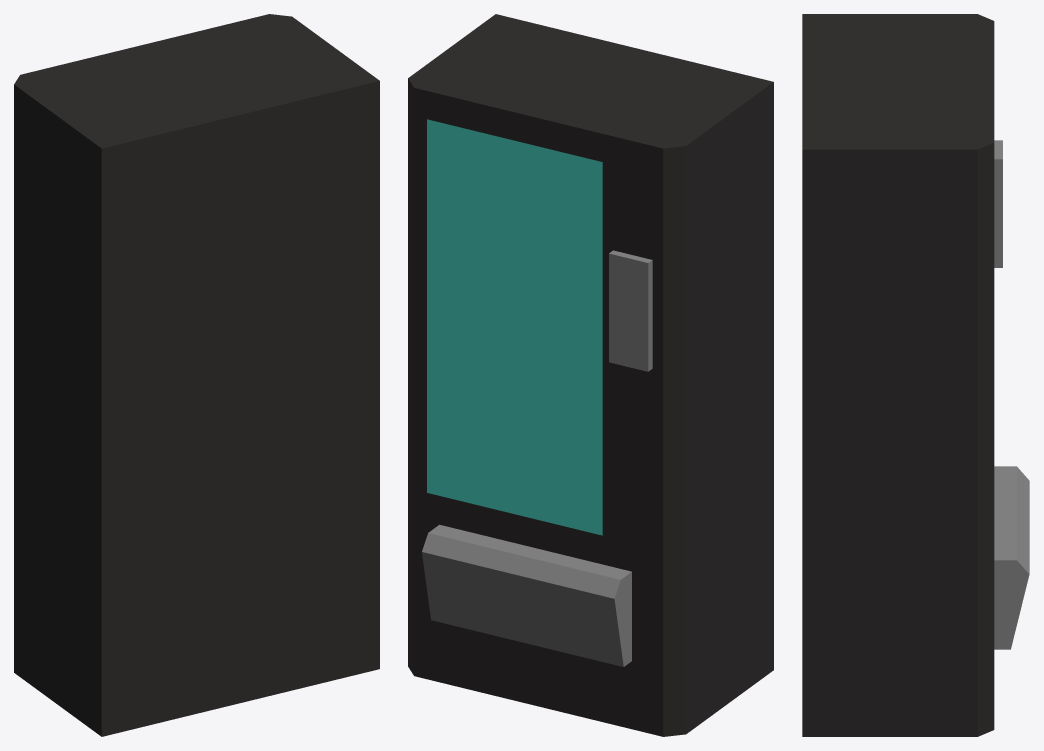
File: VendingMachine.fbx
The picture shows the model from 3 angles, left to right: view 1: azimuth 30°, elevation 25°; view 2: azimuth 150°, elevation 25°; view 3: azimuth 270°, elevation 25°; orthographic projection.
Parts seen in each view (by area): view 1: VendingMachine; view 2: VendingMachine; view 3: VendingMachine.
Boxes of the visible parts, box(x1,y1,x2,y2) form: VendingMachine: box(14, 14, 379, 736); VendingMachine: box(408, 14, 773, 736); VendingMachine: box(802, 14, 1029, 736).
Bounding box in the file's own units: 79.54 × 161 × 56.31.
